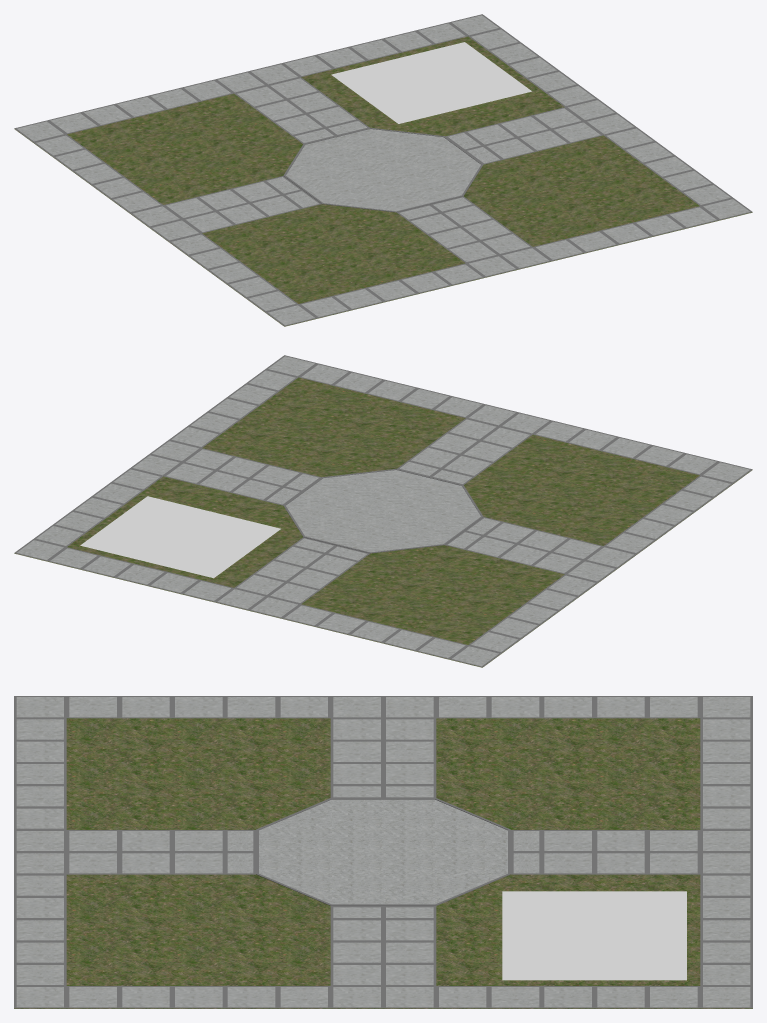
The model's file is stage-terrain.glb.
3 views of the same model, one above another, from view 1: azimuth 30°, elevation 25°; view 2: azimuth 150°, elevation 25°; view 3: azimuth 270°, elevation 25° (orthographic). The views are drawn at different scales.
Parts seen in each view (by area): view 1: Grass, Cylinder, TablePlaceMat, sidewalk_outter_1.046, sidewalk_outter_1.079, sidewalk_outter_1.005, sidewalk_outter_1.010, sidewalk_outter_1.025, sidewalk_outter_1.041, sidewalk_outter_1.051, sidewalk_outter_1.057, sidewalk_outter_1.070 (+67 smaller); view 2: Grass, Cylinder, TablePlaceMat, sidewalk_outter_1.049, sidewalk_outter_1.058, sidewalk_outter_1.012, sidewalk_outter_1.030, sidewalk_outter_1.035, sidewalk_outter_1.042, sidewalk_outter_1.047, sidewalk_outter_1.060, sidewalk_outter_1.071 (+67 smaller); view 3: Grass, Cylinder, TablePlaceMat, sidewalk_outter_1.064, sidewalk_outter_1.065, sidewalk_outter_1.056, sidewalk_outter_1.058, sidewalk_outter_1.070, sidewalk_outter_1.071, sidewalk_outter_1.077, sidewalk_outter_1.079, sidewalk_outter_1.016 (+75 smaller).
Part boxes in pixels (left/top/right/bottom): Grass: left=14, top=36, right=752, bottom=326; Cylinder: left=283, top=127, right=483, bottom=212; TablePlaceMat: left=331, top=42, right=531, bottom=123; sidewalk_outter_1.046: left=623, top=141, right=675, bottom=163; sidewalk_outter_1.079: left=287, top=91, right=339, bottom=113; sidewalk_outter_1.005: left=248, top=63, right=300, bottom=85; sidewalk_outter_1.010: left=148, top=87, right=200, bottom=109; sidewalk_outter_1.025: left=265, top=304, right=317, bottom=326; sidewalk_outter_1.041: left=662, top=169, right=713, bottom=191; sidewalk_outter_1.051: left=468, top=28, right=520, bottom=50; sidewalk_outter_1.057: left=447, top=241, right=498, bottom=263; sidewalk_outter_1.070: left=498, top=115, right=550, bottom=137; Grass: left=14, top=377, right=752, bottom=667; Cylinder: left=283, top=468, right=483, bottom=553; TablePlaceMat: left=80, top=496, right=280, bottom=578; sidewalk_outter_1.049: left=91, top=482, right=143, bottom=504; sidewalk_outter_1.058: left=427, top=432, right=479, bottom=454; sidewalk_outter_1.012: left=449, top=645, right=501, bottom=667; sidewalk_outter_1.030: left=466, top=404, right=518, bottom=426; sidewalk_outter_1.035: left=566, top=428, right=618, bottom=450; sidewalk_outter_1.042: left=246, top=369, right=298, bottom=391; sidewalk_outter_1.047: left=53, top=510, right=104, bottom=532; sidewalk_outter_1.060: left=408, top=446, right=460, bottom=468; sidewalk_outter_1.071: left=216, top=456, right=268, bottom=478; Grass: left=14, top=718, right=752, bottom=1008; Cylinder: left=256, top=798, right=510, bottom=905; TablePlaceMat: left=502, top=891, right=686, bottom=980; sidewalk_outter_1.064: left=330, top=718, right=383, bottom=740; sidewalk_outter_1.065: left=383, top=718, right=436, bottom=740; sidewalk_outter_1.056: left=66, top=852, right=119, bottom=874; sidewalk_outter_1.058: left=119, top=852, right=172, bottom=874; sidewalk_outter_1.070: left=383, top=941, right=436, bottom=963; sidewalk_outter_1.071: left=330, top=941, right=383, bottom=963; sidewalk_outter_1.077: left=647, top=852, right=700, bottom=874; sidewalk_outter_1.079: left=594, top=852, right=647, bottom=874; sidewalk_outter_1.016: left=647, top=696, right=700, bottom=718.
Size of the model in its own units: 56 by 0.0818 by 56.
Materials: 3 (2 with a texture image).
